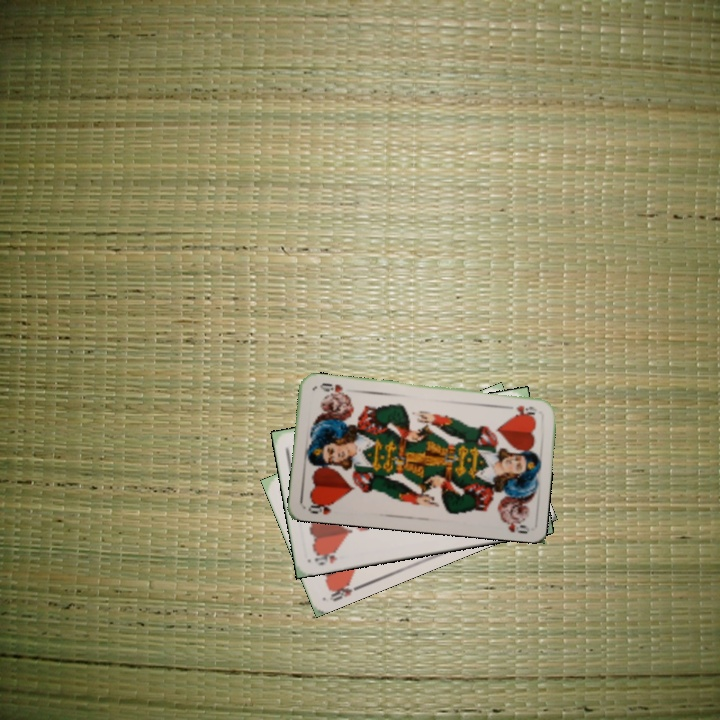HO: (325, 577, 364, 604), (311, 546, 342, 568), (304, 497, 336, 517), (501, 401, 539, 417)
